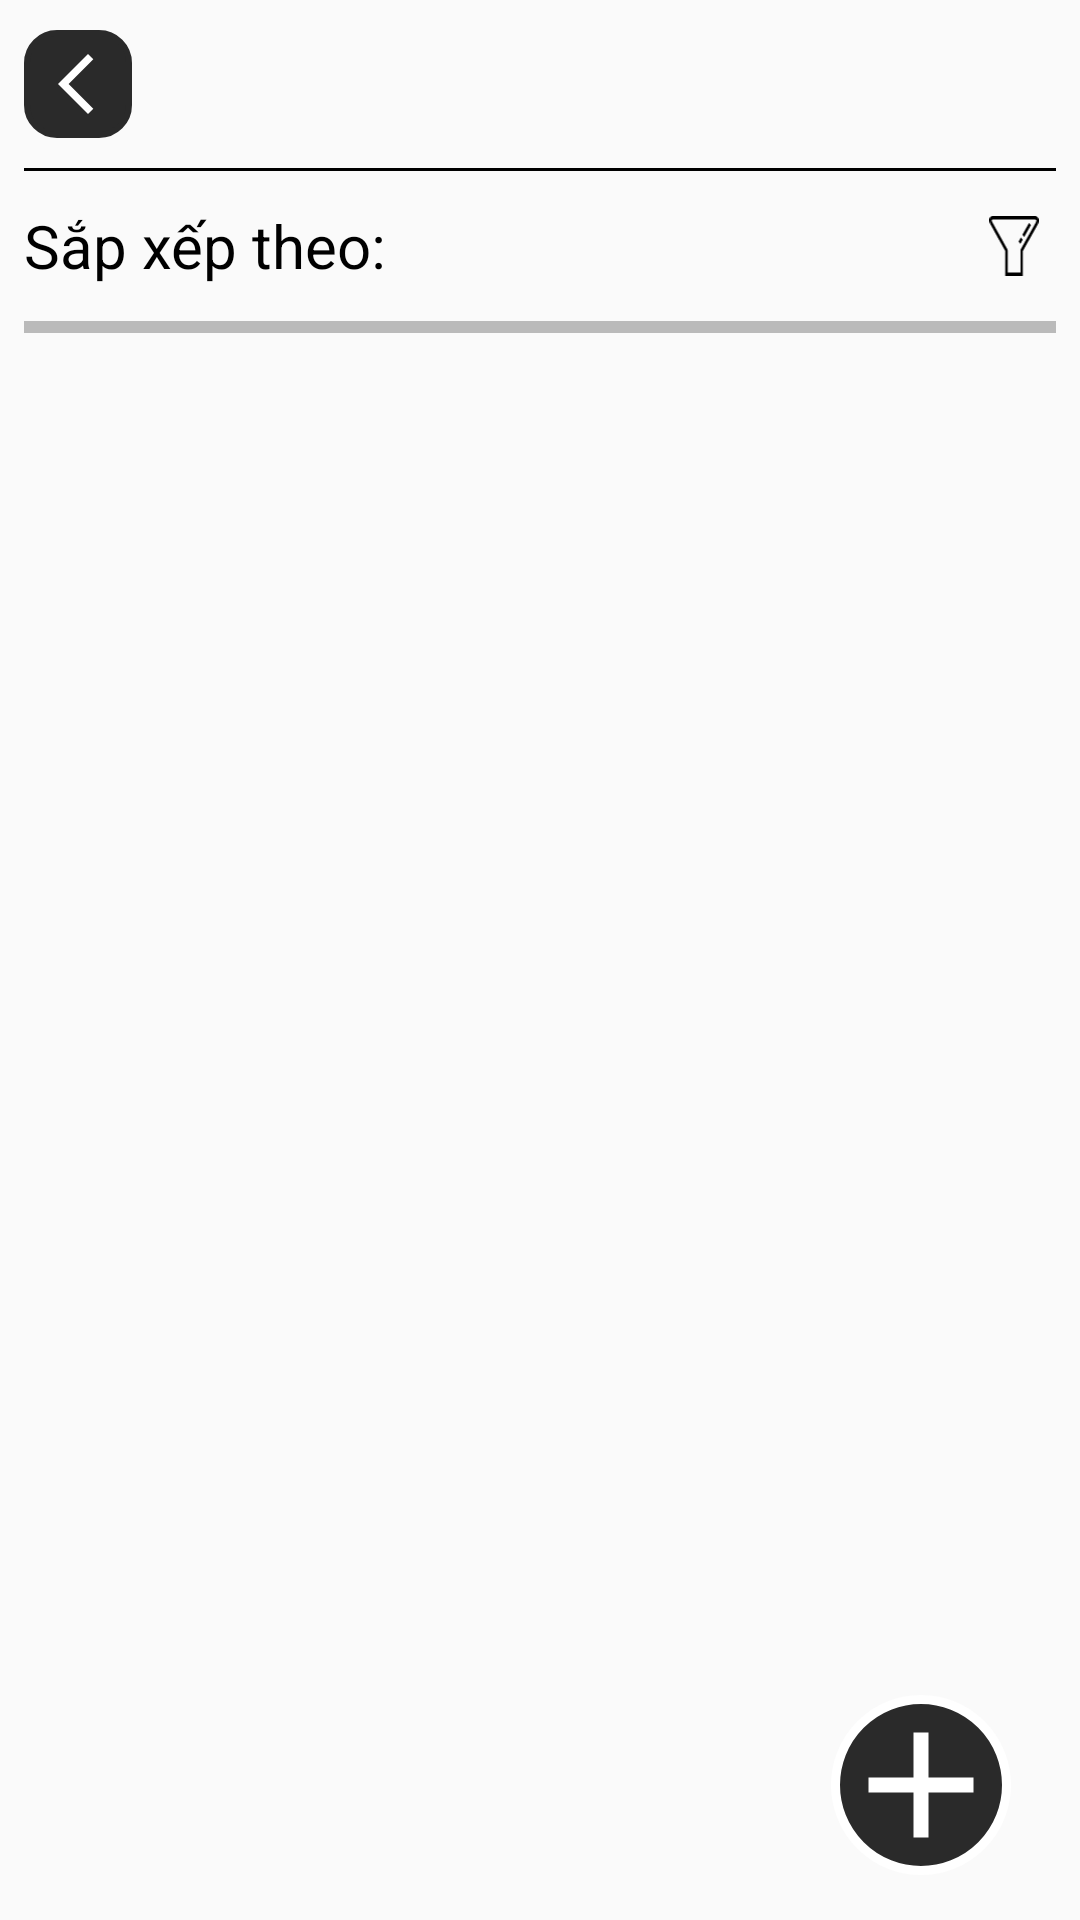

Named icons in this screenshot (1080px×1920px) and their centers, [x,y]:
add: [921,1785]
back: [75,84]
filter: [1014,246]
